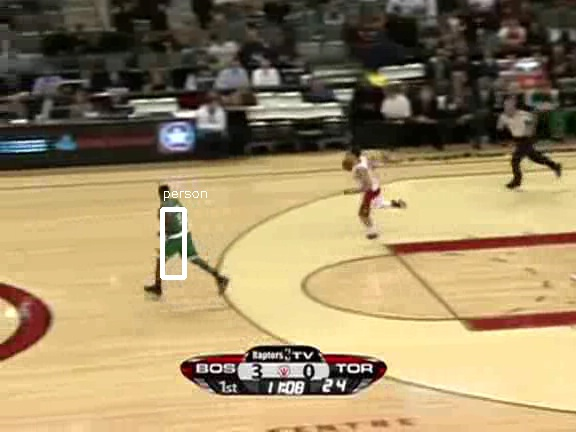person: (162, 194, 196, 275), (161, 194, 195, 275), (163, 194, 197, 275), (162, 193, 196, 274), (162, 195, 196, 276)
target_negative: (19, 332, 340, 408), (265, 81, 466, 183), (374, 152, 492, 262), (359, 380, 527, 424), (34, 215, 54, 366)
